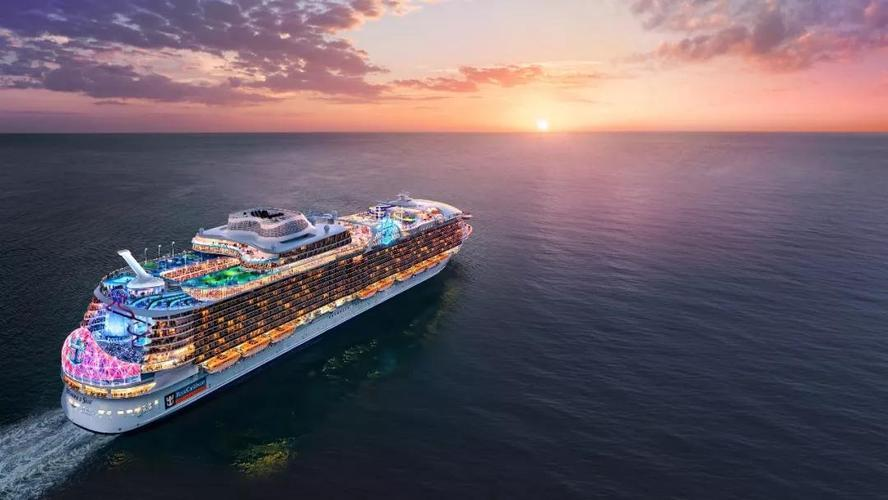Ship: (45, 180, 497, 454)
